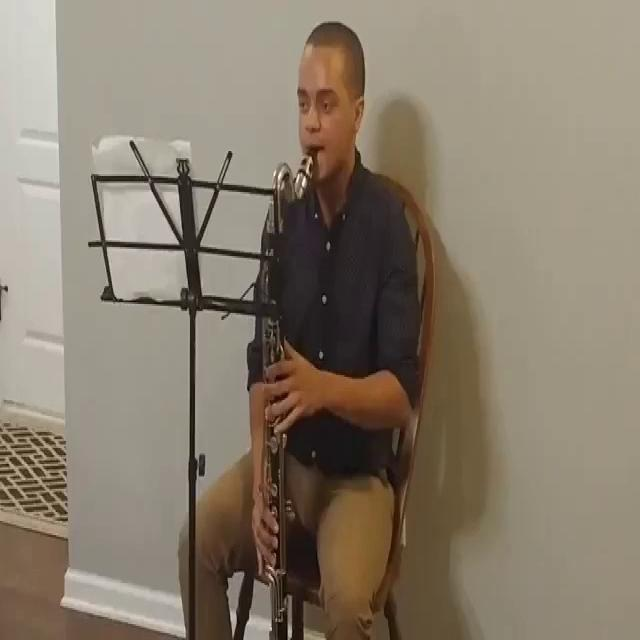Clarinet: (258, 136, 324, 632)
